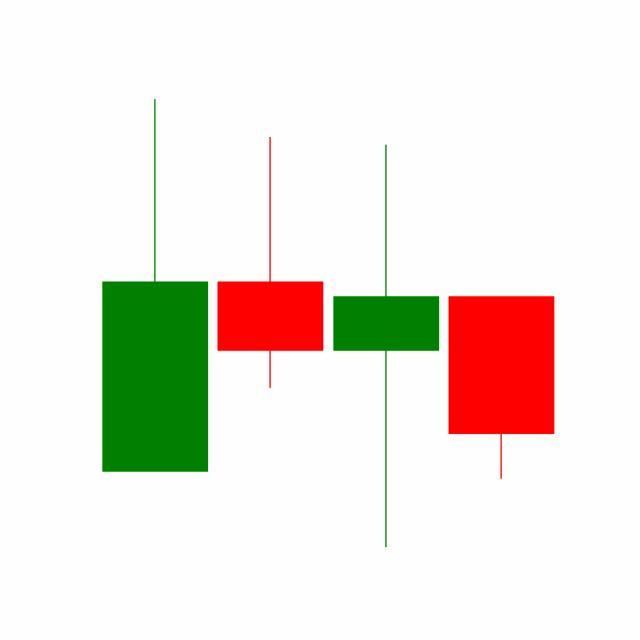Spinning Top: (329, 141, 445, 552)
